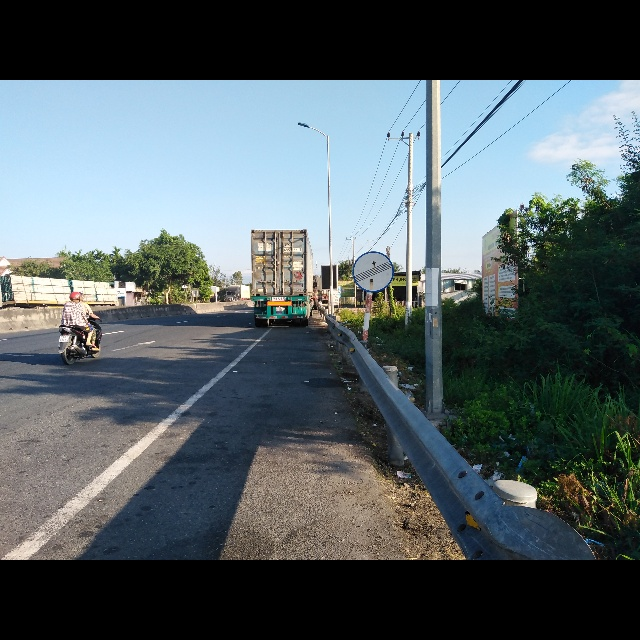Hết tất cả các lệnh cấm: (351, 247, 394, 290)
